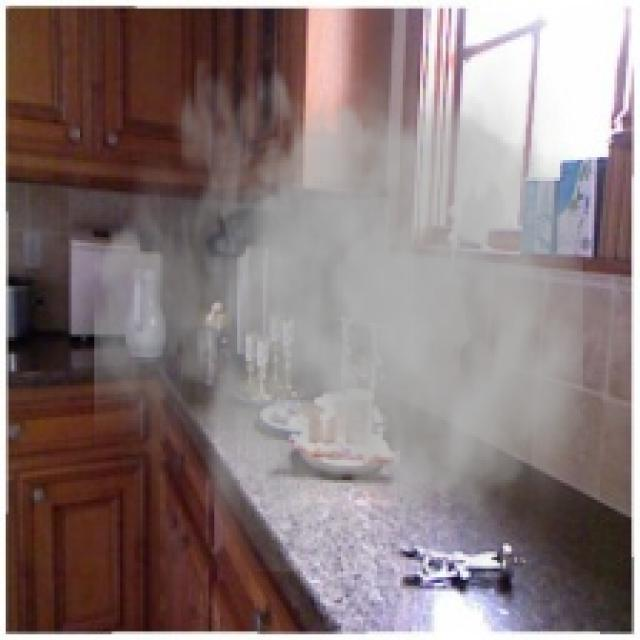smoke: (95, 3, 614, 571)
